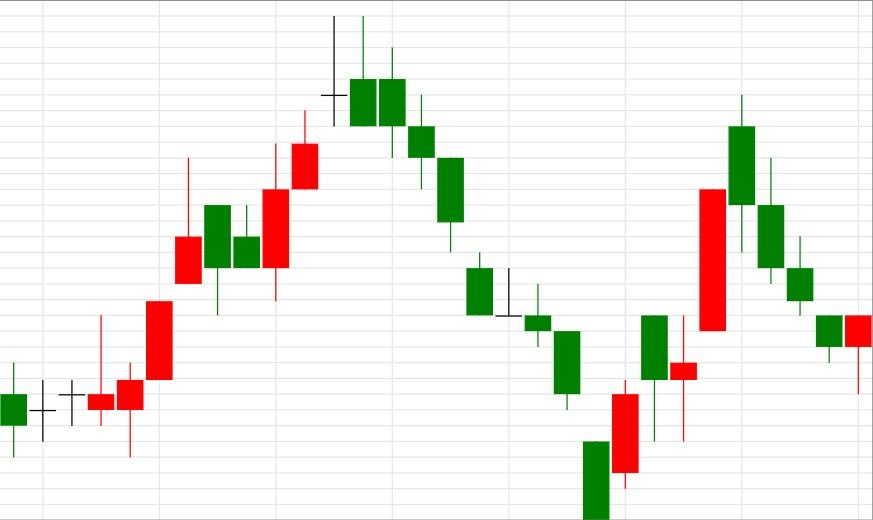three_black_crows_fall: (116, 15, 465, 457), (583, 93, 814, 519)
